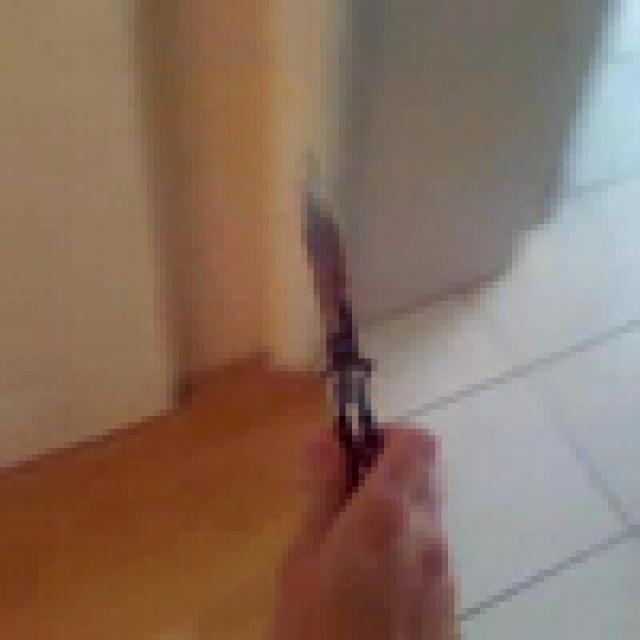knife: (237, 141, 448, 538)
